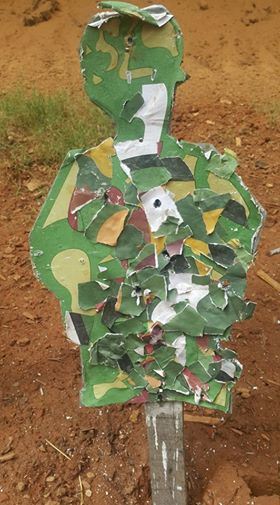Bullet: (160, 249, 170, 259), (218, 338, 227, 349), (134, 285, 143, 295), (153, 198, 161, 209), (156, 393, 164, 401), (126, 35, 133, 43)
